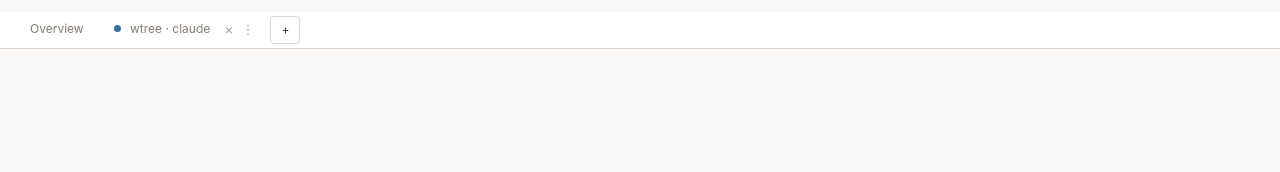
Test: AgentSessionTabsComponent open-the-ide (#628, #782) › shows the Open IDE item once its tab menu is open (#628)
Click the button with class "tab-menu-trigger".
click(251, 29)  # box [242,20,260,38]
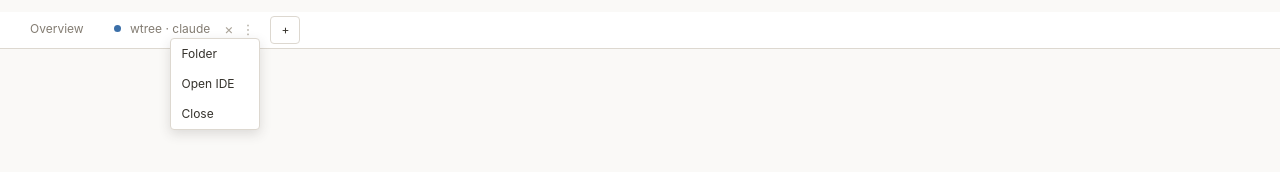
expect the number of menu items with class "tab-open-ide" is 1: met, box [172,68,260,98]
